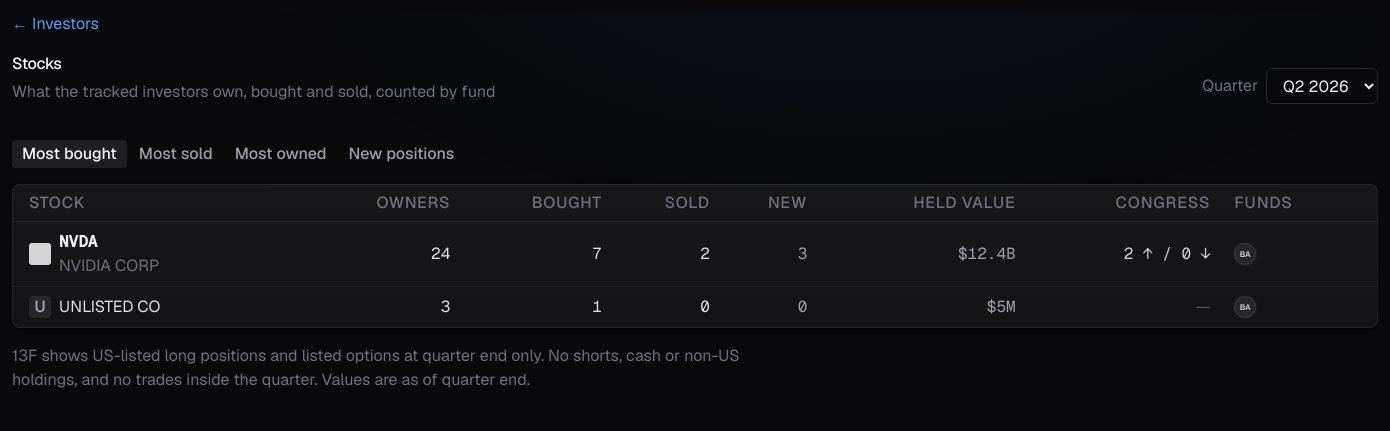
it: InvestorStocks › switches view through the URL
Click the button "Most owned" at (281, 154), box [225,140,336,168]
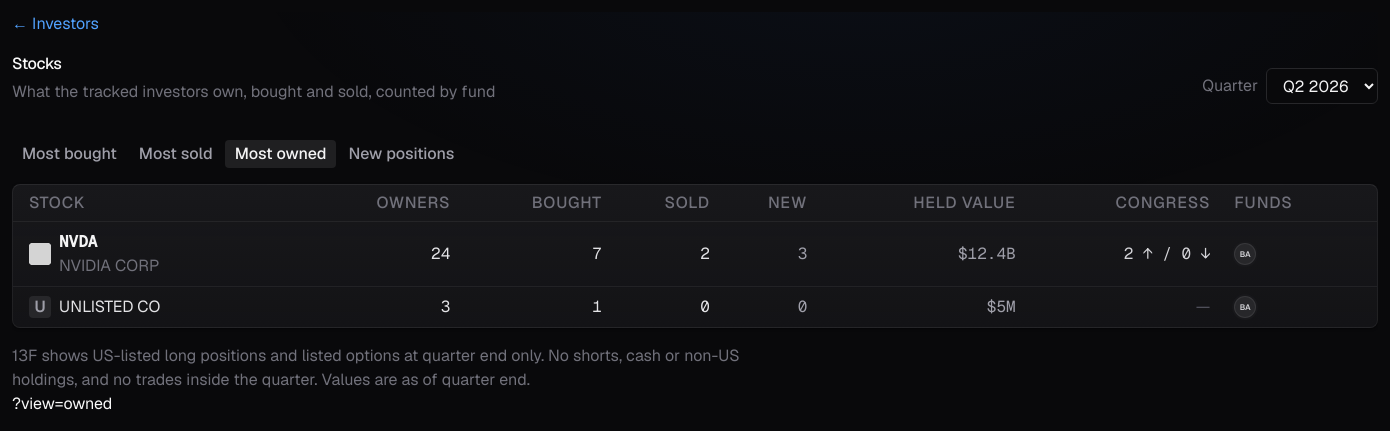
Expected: the text with test id "where" reads "?view=owned", [12,393,112,414]
